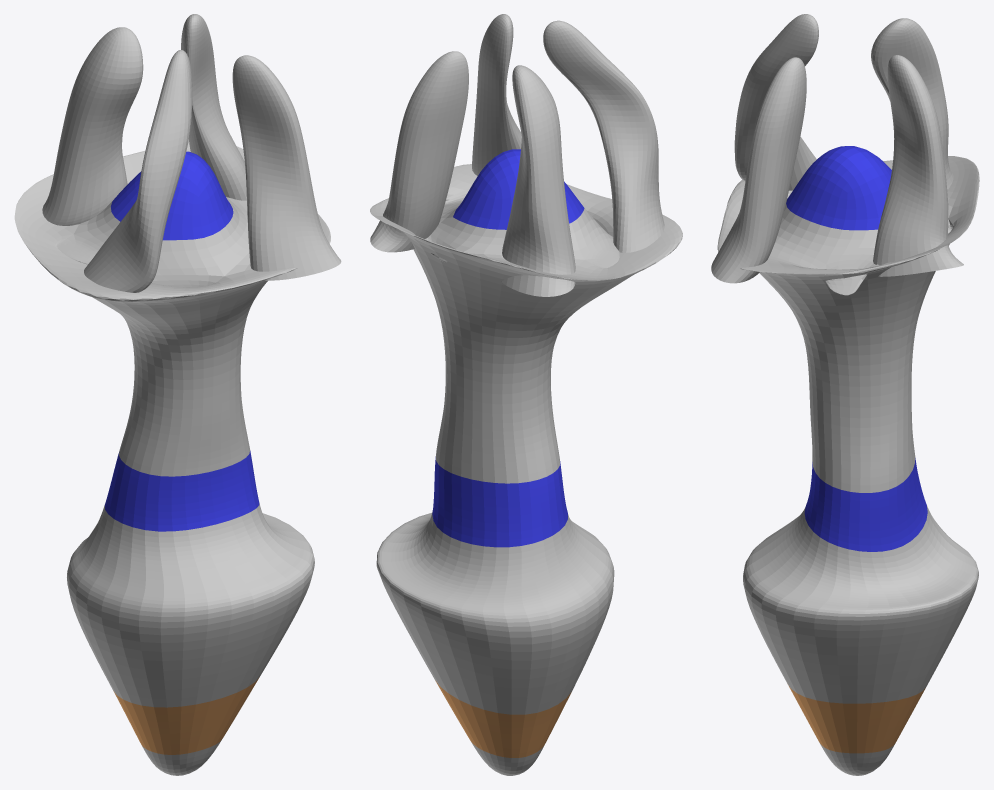
3 renders of one model, left to right at view 1: azimuth 30°, elevation 25°; view 2: azimuth 150°, elevation 25°; view 3: azimuth 270°, elevation 25°, orthographic.
Parts seen in each view (by area): view 1: Cube.004; view 2: Cube.004; view 3: Cube.004.
Part boxes in pixels (x1,y1,x2,y2): Cube.004: (14,14,341,775); Cube.004: (370,14,682,775); Cube.004: (711,14,979,775).
Size of the model in its own units: 143 by 399 by 130.
